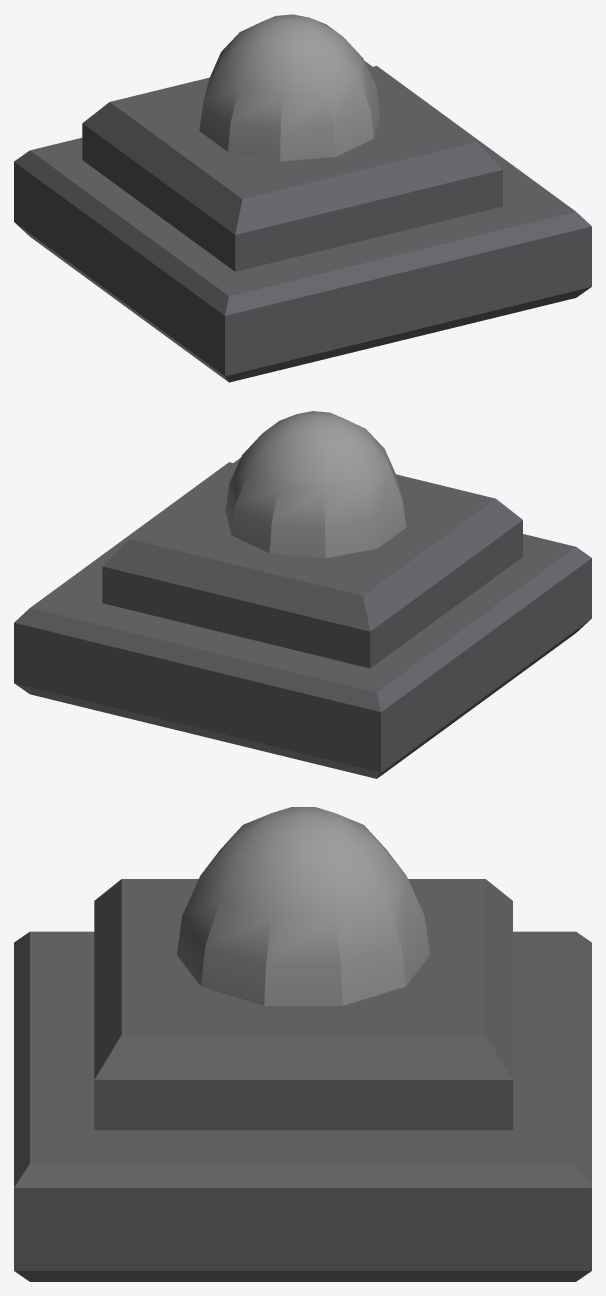
File: on_the_roof2.fbx
3 renders of one model, top to bottom at view 1: azimuth 30°, elevation 25°; view 2: azimuth 150°, elevation 25°; view 3: azimuth 270°, elevation 25°, orthographic. The views are drawn at different scales.
Visible parts, largest first — view 1: on_the_roof2; view 2: on_the_roof2; view 3: on_the_roof2.
Boxes of the visible parts, x1,y1,x2,y2 form: on_the_roof2: (14, 14, 591, 382); on_the_roof2: (14, 411, 591, 778); on_the_roof2: (14, 807, 591, 1281).
Size of the model in its own units: 237 by 153 by 235.
